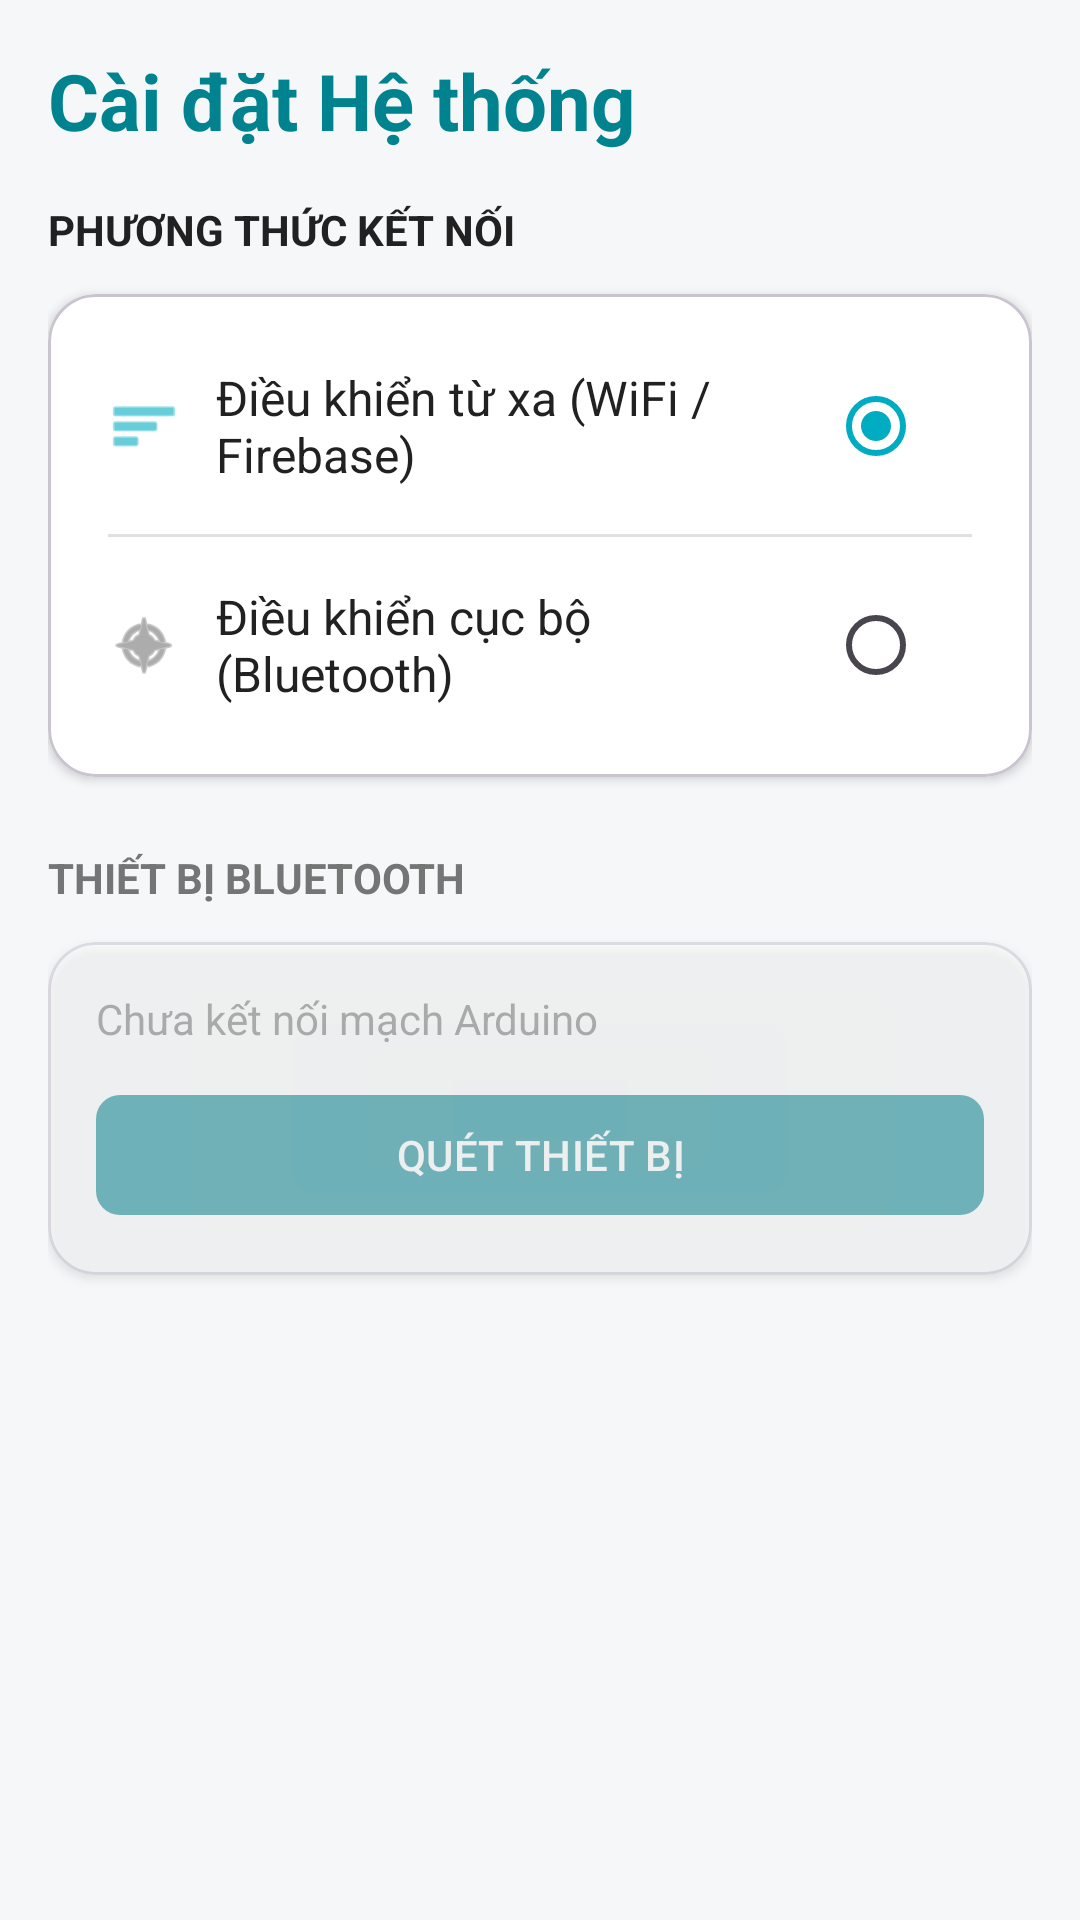

Named icons in this screenshot (1080 × 1920) and their bounding boxes, (x1, y1, x2, y2):
compass: (115, 617, 172, 674)
sort by size: (113, 406, 175, 447)
